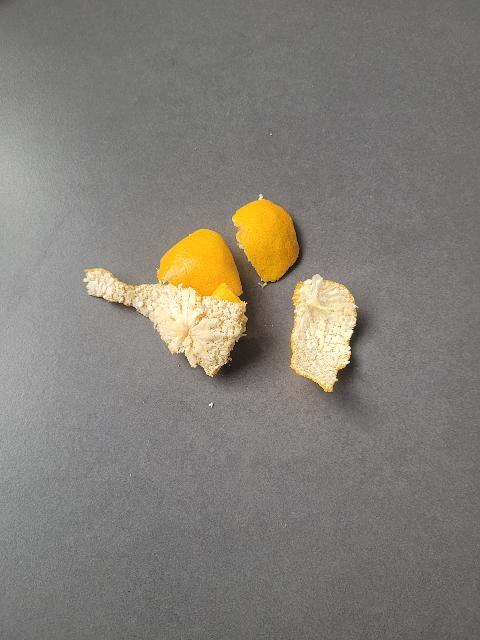Organik: (83, 256, 252, 393), (282, 269, 367, 410), (157, 211, 244, 333), (231, 183, 318, 294)
